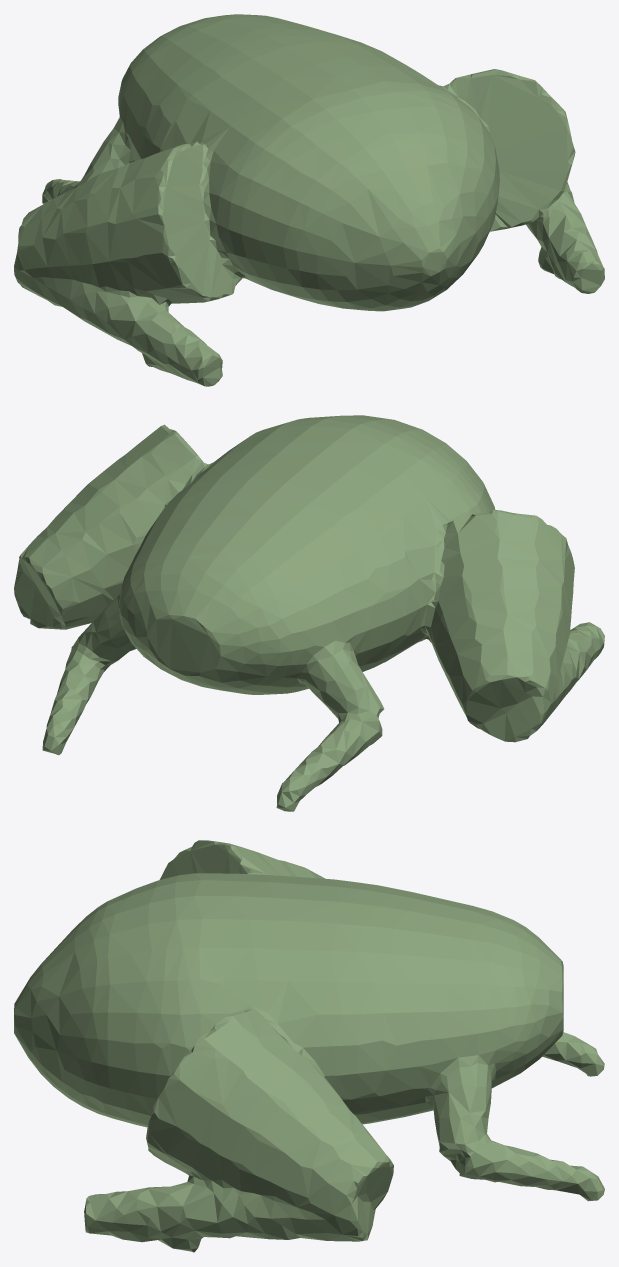
Rendered from frog_body_01.glb.
3 renders of one model, top to bottom at view 1: azimuth 30°, elevation 25°; view 2: azimuth 150°, elevation 25°; view 3: azimuth 270°, elevation 25°, orthographic. The views are drawn at different scales.
Visible parts, largest first — view 1: ConnectedBodyTailLimbs; view 2: ConnectedBodyTailLimbs; view 3: ConnectedBodyTailLimbs.
Boxes of the visible parts, bbox=[...] form: ConnectedBodyTailLimbs: bbox=[14, 14, 604, 386]; ConnectedBodyTailLimbs: bbox=[14, 415, 604, 811]; ConnectedBodyTailLimbs: bbox=[14, 840, 604, 1252].
Bounding box in the file's own units: 1.18 × 0.4858 × 1.04.
